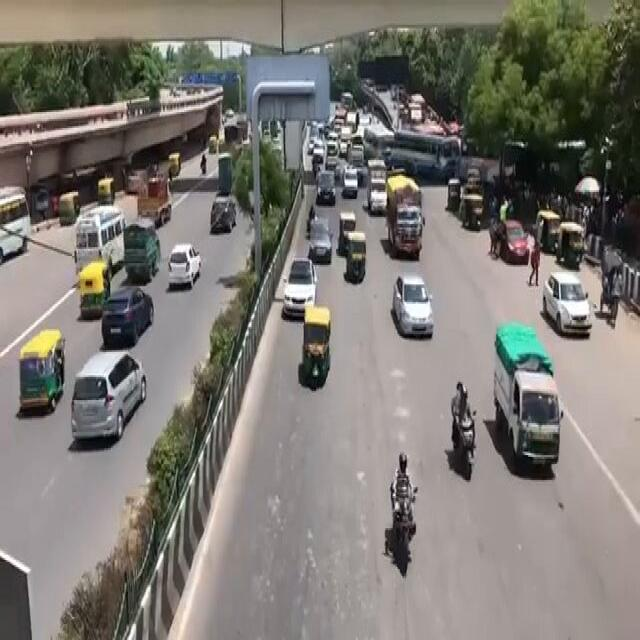three_wheeler: (294, 299, 337, 391)
